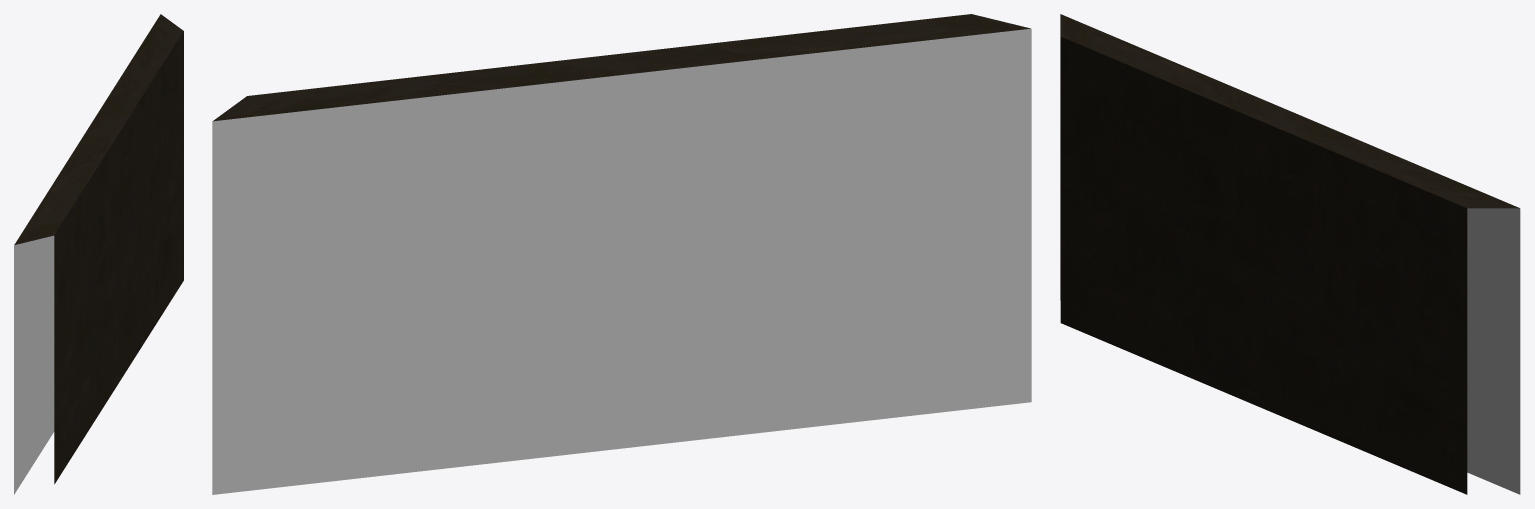
File: fortress_half_diagonal_03.fbx
3 views of the same model, side by side, from view 1: azimuth 30°, elevation 25°; view 2: azimuth 150°, elevation 25°; view 3: azimuth 270°, elevation 25° (orthographic). The views are drawn at different scales.
Parts seen in each view (by area): view 1: fortress_half_diagonal_03-0; view 2: fortress_half_diagonal_03-0; view 3: fortress_half_diagonal_03-0.
Boxes of the visible parts, x1,y1,x2,y2 form: fortress_half_diagonal_03-0: (14,14,183,494); fortress_half_diagonal_03-0: (212,14,1031,494); fortress_half_diagonal_03-0: (1060,14,1520,494).
Bounding box in the file's own units: 4 × 2.75 × 4.
